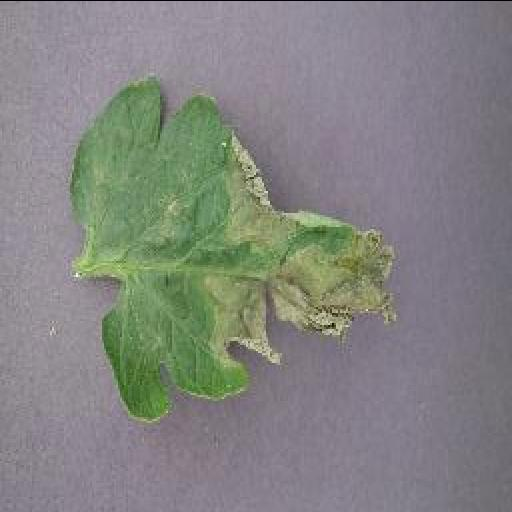disease_tomato: (72, 72, 398, 418)
